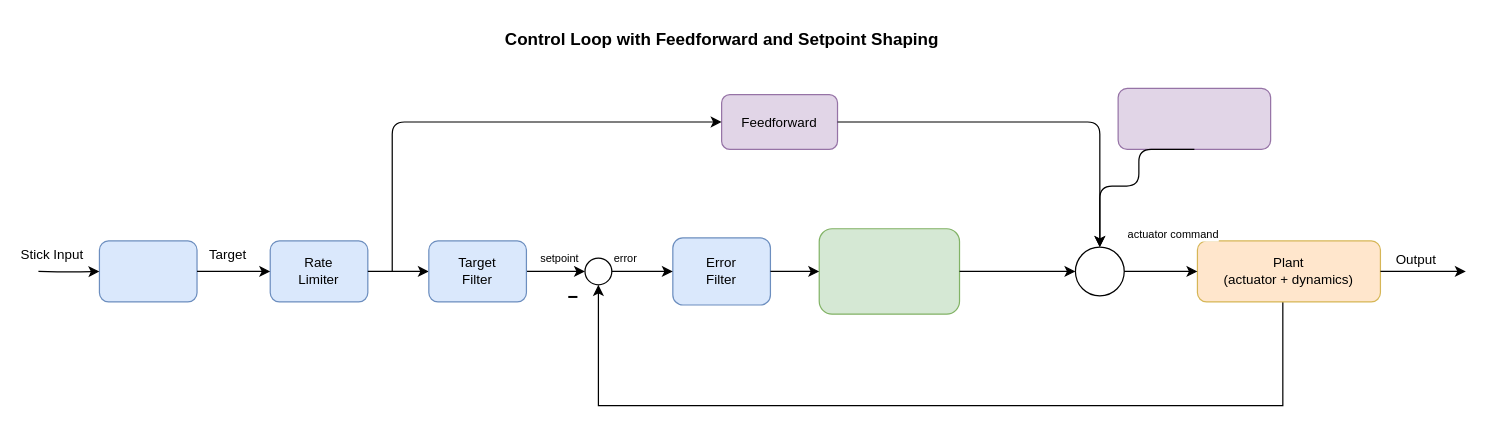
This 1498x437 diagram has some shape labels left out. The shapes that lost their labels are listed below. From the top down, each one's centre as x and y in pixels, then its label:
point (1194, 118): Baseline FF (constant offset)
point (147, 271): Setpoint Scaling
point (889, 271): PID controller (P, I, D)
